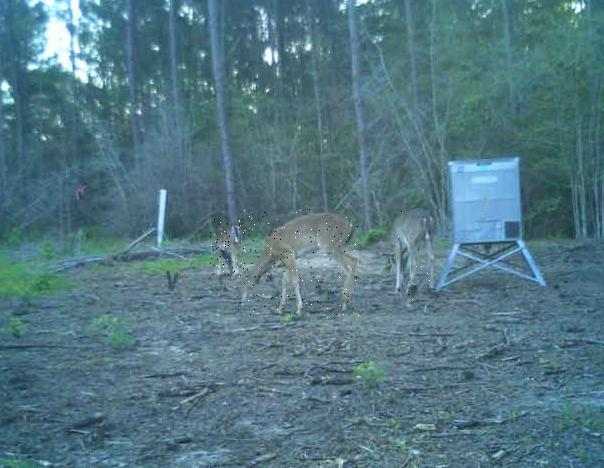Deer: (237, 210, 359, 320), (383, 205, 435, 305), (209, 218, 244, 277)
